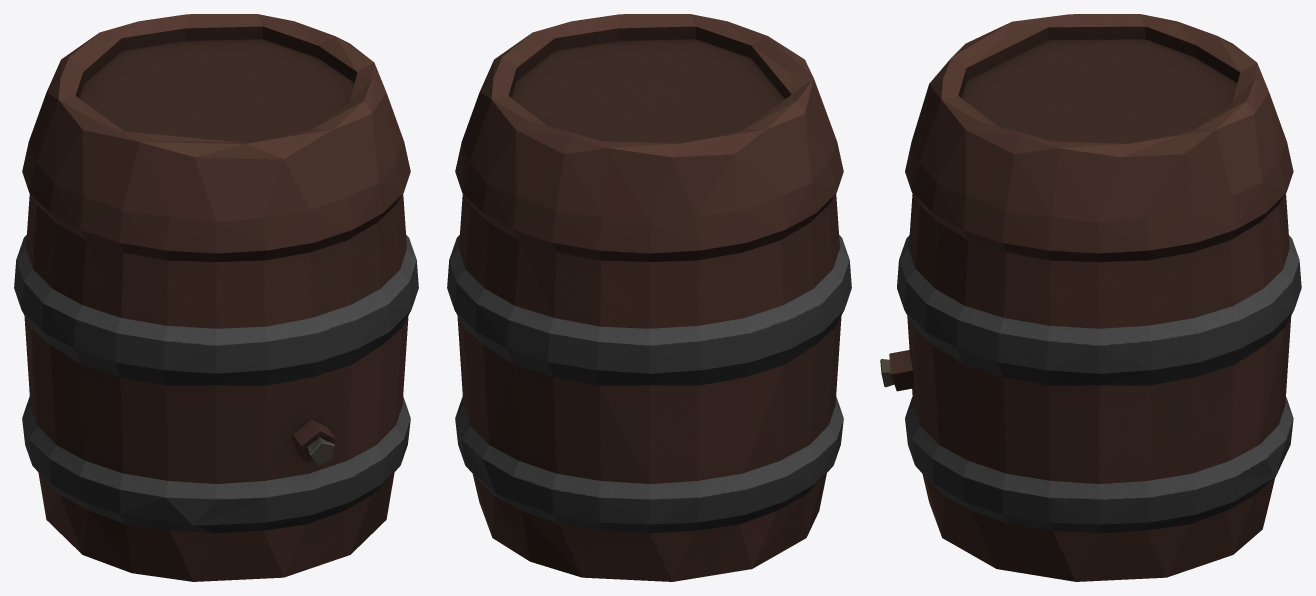
The model's file is Barrel.fbx.
3 renders of one model, left to right at view 1: azimuth 30°, elevation 25°; view 2: azimuth 150°, elevation 25°; view 3: azimuth 270°, elevation 25°, orthographic.
Parts seen in each view (by area): view 1: Barrel_01; view 2: Barrel_01; view 3: Barrel_01.
Part boxes in pixels (x1,y1,x2,y2): Barrel_01: [14, 14, 418, 581]; Barrel_01: [447, 14, 851, 581]; Barrel_01: [880, 14, 1301, 581].
Bounding box in the file's own units: 403 × 478 × 422.
